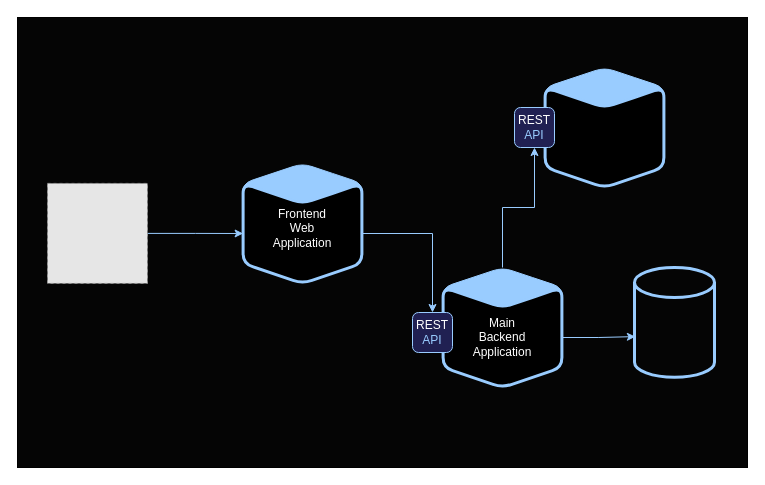
Some shapes in this 765 by 485 pixel diagram are drawn without their labels. Grey dashed boxes stand in for pictures. The centre of each missing label's shape, as x and y in pixels:
"Code Runner Service" belongs at point 604,137.
"Database" belongs at point 674,322.
